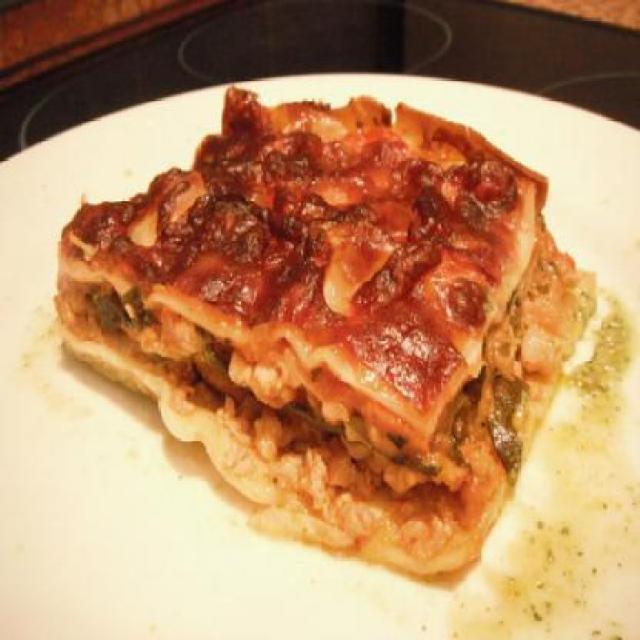Lasagna: (44, 71, 587, 587)
